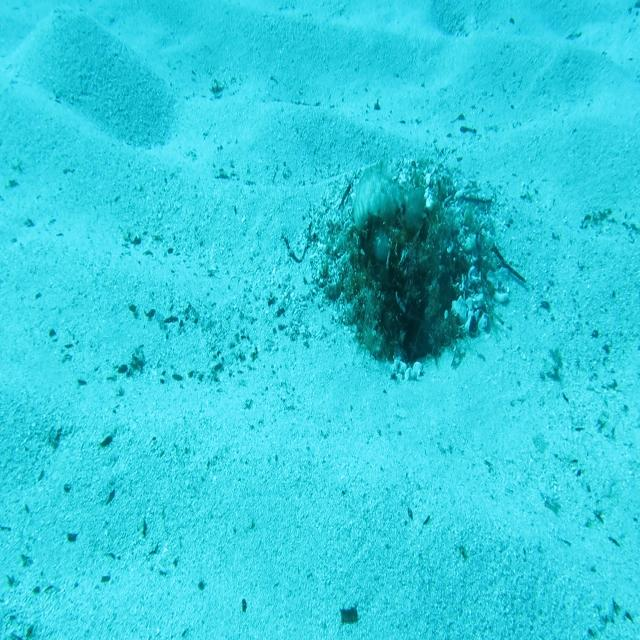NIP_IN: (352, 158, 427, 238)
core_nest: (365, 214, 424, 259)
nest: (300, 147, 513, 390)
